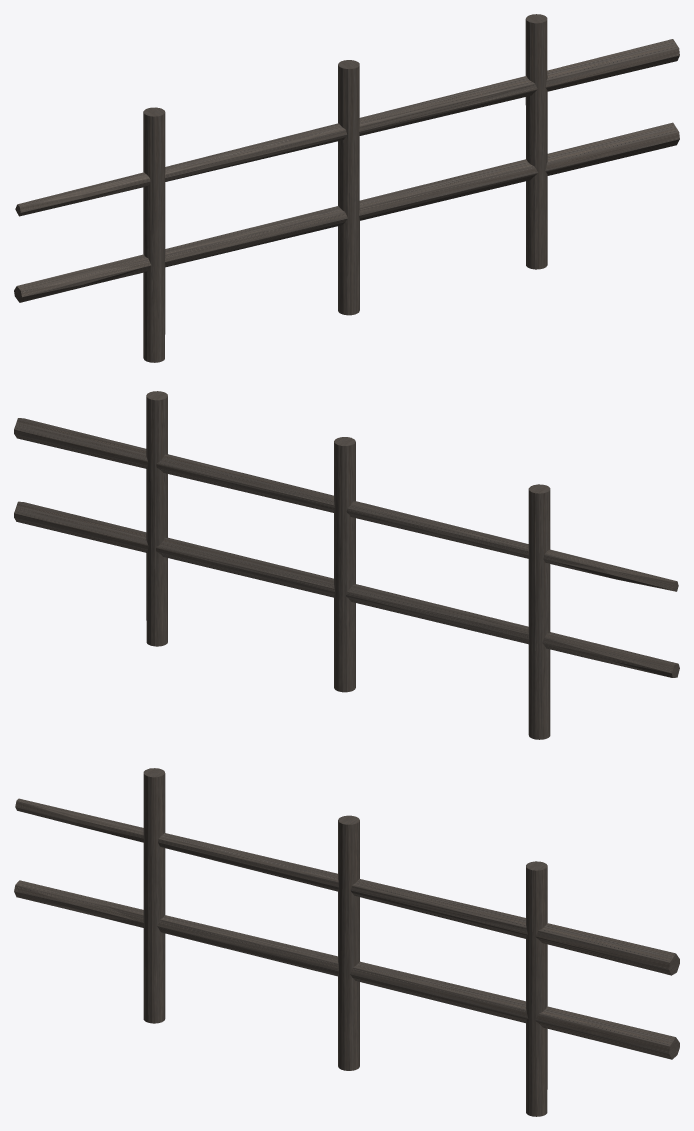
The model's file is fence.fbx.
3 views of the same model, one above another, from view 1: azimuth 30°, elevation 25°; view 2: azimuth 150°, elevation 25°; view 3: azimuth 330°, elevation 25° (orthographic).
Visible parts, largest first — view 1: Cylinder; view 2: Cylinder; view 3: Cylinder.
Part boxes in pixels (left/top/right/bottom): Cylinder: left=14, top=14, right=679, bottom=362; Cylinder: left=14, top=391, right=679, bottom=739; Cylinder: left=14, top=768, right=679, bottom=1116.
Size of the model in its own units: 1395 by 500 by 40.11.
